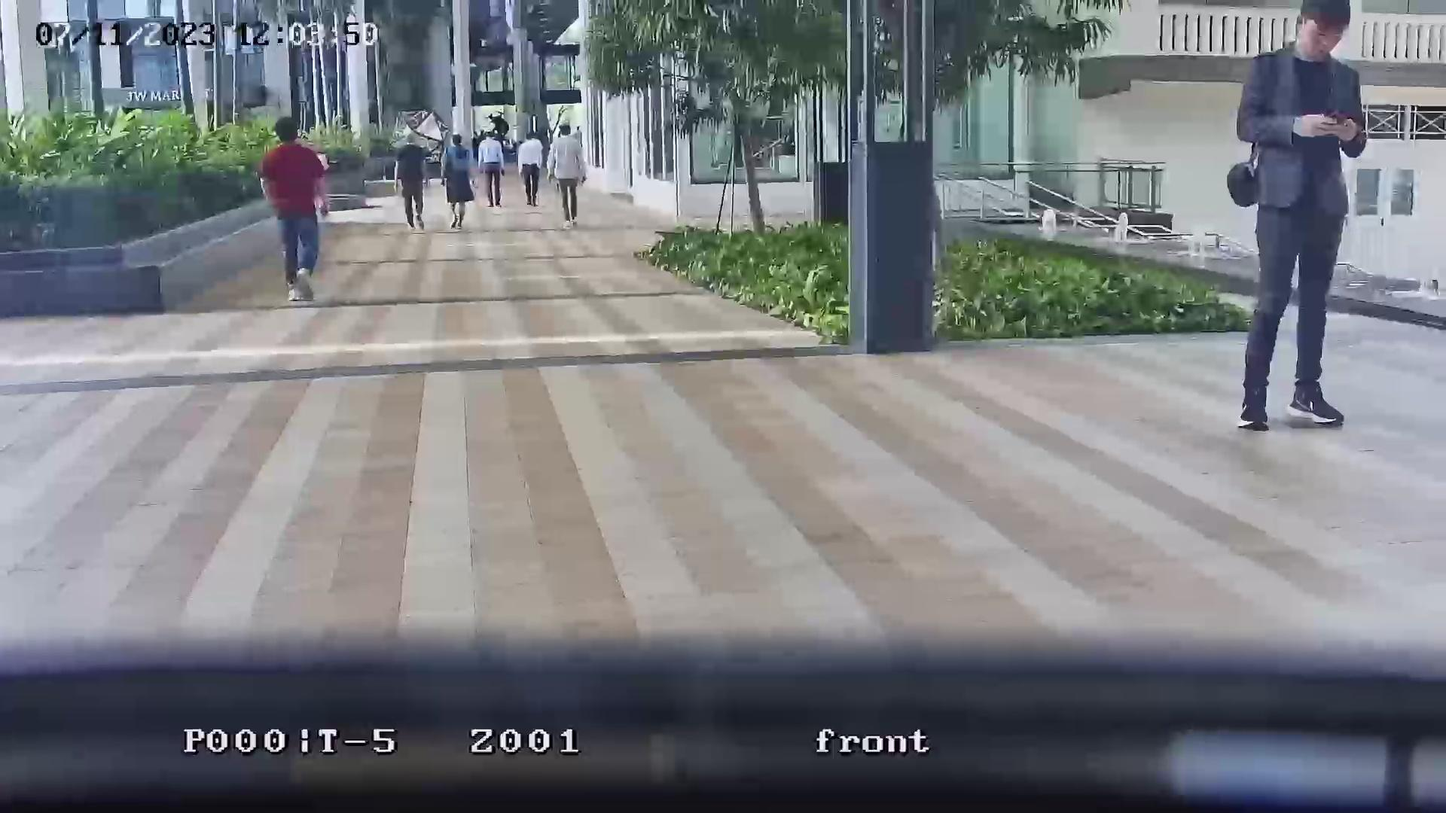person: (1232, 0, 1369, 433), (257, 115, 330, 304), (548, 122, 587, 227), (394, 135, 431, 230), (441, 134, 477, 230), (476, 129, 505, 208), (517, 128, 545, 207)
